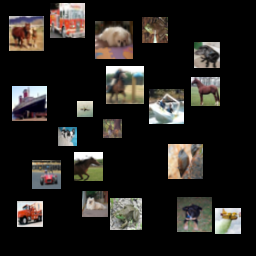airplane: (108, 159, 140, 191), (38, 141, 67, 170)
automobile: (202, 70, 240, 108), (169, 77, 191, 99)
bird: (39, 59, 58, 78)
cat: (6, 211, 32, 237)
deer: (120, 216, 149, 245)
dog: (66, 13, 104, 51), (22, 103, 57, 138), (196, 144, 222, 170), (77, 156, 96, 175)
ship: (79, 207, 117, 245), (11, 21, 46, 56), (70, 95, 102, 127), (188, 211, 210, 233)
